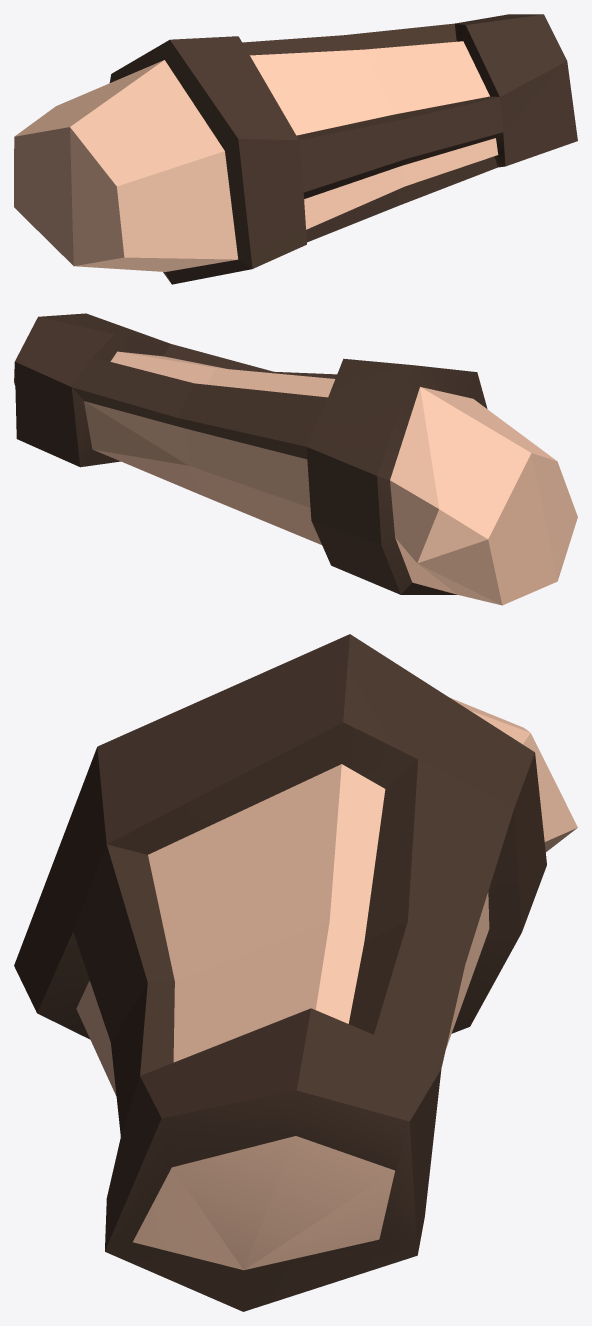
Rendered from Chr_ArmLowerLeft_Male_09_Static.fbx.
3 views of the same model, one above another, from view 1: azimuth 30°, elevation 25°; view 2: azimuth 150°, elevation 25°; view 3: azimuth 270°, elevation 25° (orthographic). The views are drawn at different scales.
Parts seen in each view (by area): view 1: Chr_ArmLowerLeft_Male_09_Static; view 2: Chr_ArmLowerLeft_Male_09_Static; view 3: Chr_ArmLowerLeft_Male_09_Static.
Part boxes in pixels (box(x1,y1,x2,y2)): Chr_ArmLowerLeft_Male_09_Static: box(14, 14, 577, 284); Chr_ArmLowerLeft_Male_09_Static: box(14, 313, 577, 605); Chr_ArmLowerLeft_Male_09_Static: box(14, 634, 577, 1311).
Size of the model in its own units: 0.2896 by 0.1279 by 0.1467.
